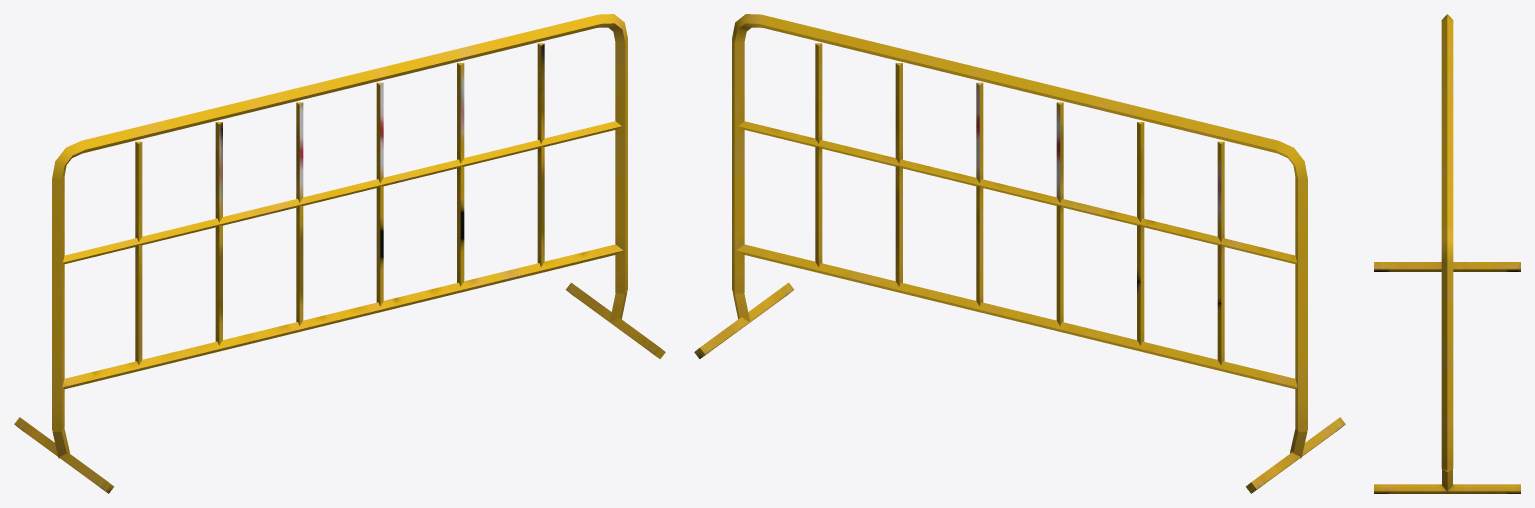
Rendered from folding_barricade_lod.glb.
The picture shows the model from 3 angles, left to right: view 1: azimuth 30°, elevation 25°; view 2: azimuth 150°, elevation 25°; view 3: azimuth 270°, elevation 25°; orthographic projection. The views are drawn at different scales.
Visible parts, largest first — view 1: folding_barricade_lod; view 2: folding_barricade_lod; view 3: folding_barricade_lod.
Part boxes in pixels (x1,y1,x2,y2): folding_barricade_lod: (14, 14, 665, 493); folding_barricade_lod: (694, 14, 1345, 493); folding_barricade_lod: (1374, 14, 1520, 493).
Size of the model in its own units: 1.94 by 1.02 by 0.52.
Materials: 1 (1 with a texture image).
